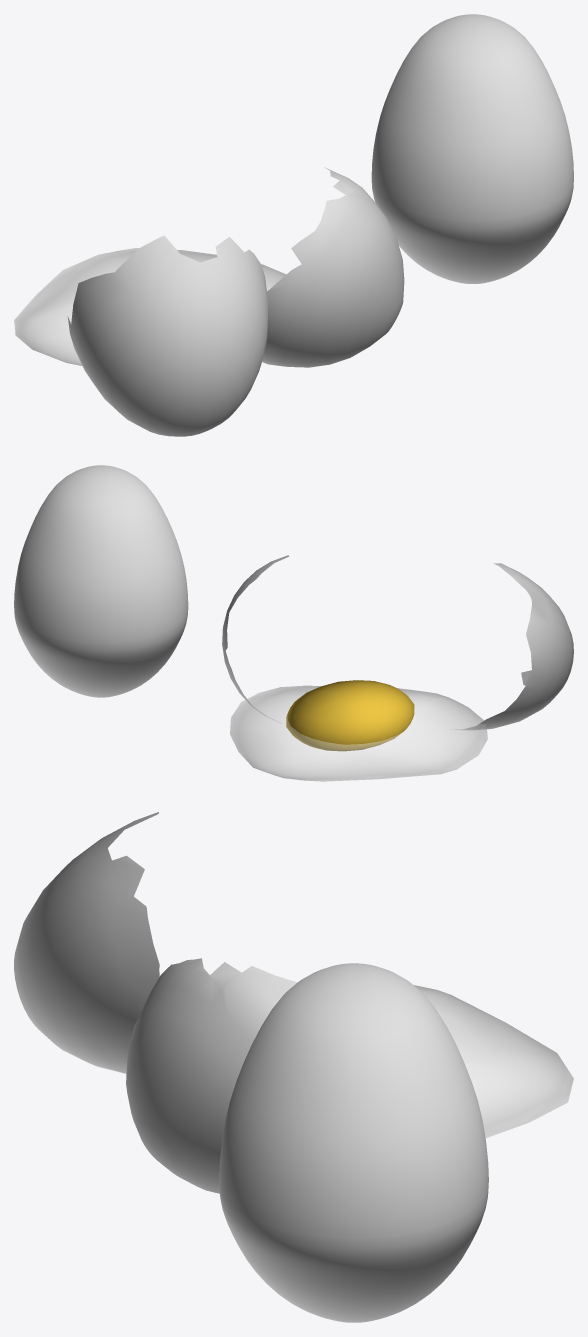
The model's file is e208cc14-7b16-4160-aaac-a08ccdaa8fac.glb.
The picture shows the model from 3 angles, top to bottom: view 1: azimuth 30°, elevation 25°; view 2: azimuth 150°, elevation 25°; view 3: azimuth 270°, elevation 25°; orthographic projection. The views are drawn at different scales.
Visible parts, largest first — view 1: Sphere001, Sphere003, Sphere002, GeoSphere002; view 2: Sphere001, GeoSphere002, GeoSphere001, Sphere003, Sphere002; view 3: Sphere001, Sphere003, Sphere002, GeoSphere002.
Boxes of the visible parts, x1=… form: Sphere001: x1=371, y1=14, x2=573, y2=283; Sphere003: x1=67, y1=235, x2=268, y2=436; Sphere002: x1=262, y1=167, x2=404, y2=367; GeoSphere002: x1=14, y1=248, x2=286, y2=365; Sphere001: x1=14, y1=465, x2=188, y2=697; GeoSphere002: x1=230, y1=685, x2=487, y2=781; GeoSphere001: x1=286, y1=680, x2=414, y2=751; Sphere003: x1=456, y1=563, x2=573, y2=729; Sphere002: x1=222, y1=555, x2=289, y2=722; Sphere001: x1=219, y1=963, x2=488, y2=1322; Sphere003: x1=14, y1=812, x2=159, y2=1073; Sphere002: x1=126, y1=958, x2=297, y2=1193; GeoSphere002: x1=414, y1=985, x2=573, y2=1137.
Size of the model in its own units: 53.93 by 25 by 36.18.
